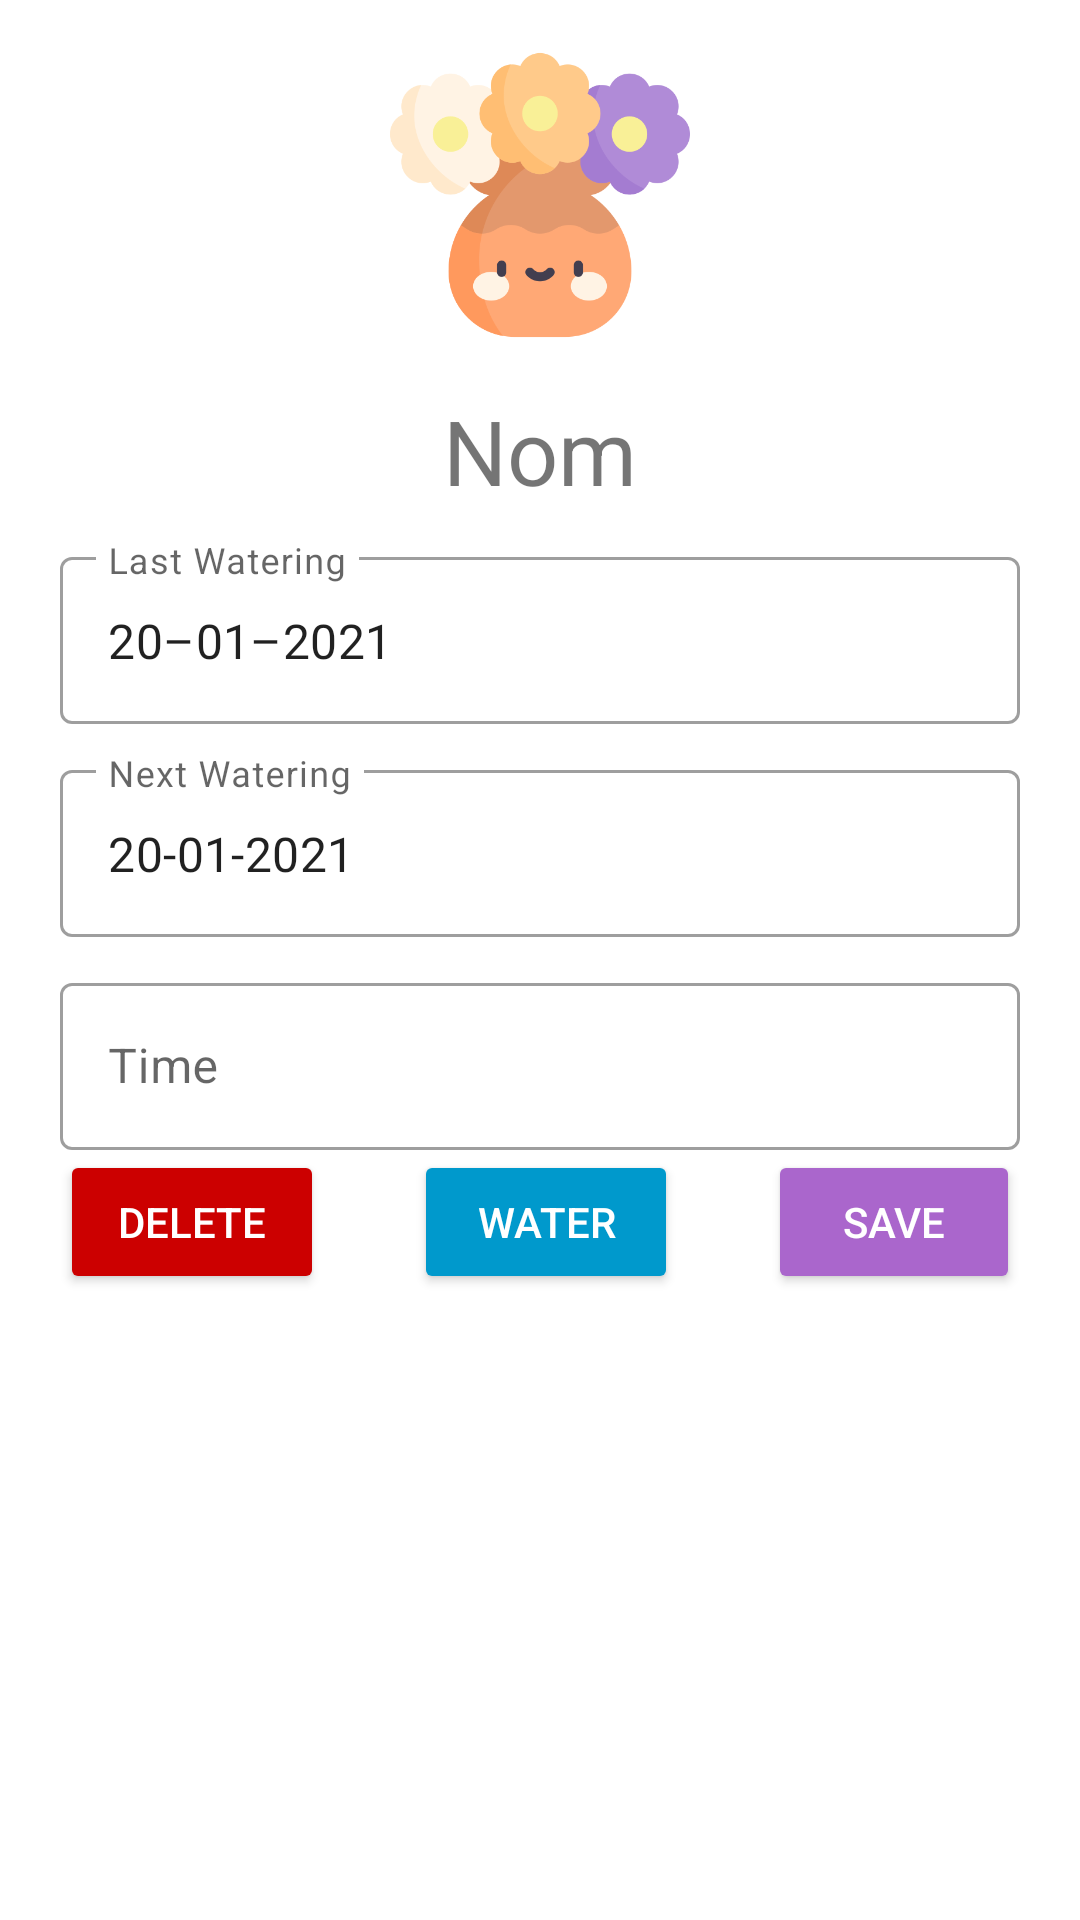

Where to tap for icons on this 1080×1920 app screen, as (x=x, y=y):
flower: (x=540, y=195)
